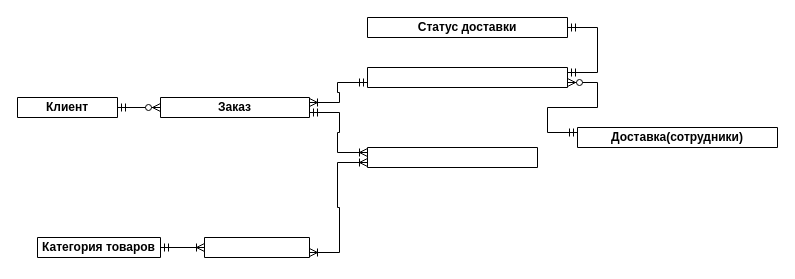
This 795x279 diagram has some shape labels left out. Each missing label, with the centre of its shape:
Доставка: the point at 467,77
Заказ(Содержимое): the point at 452,157
Товар: the point at 257,247
